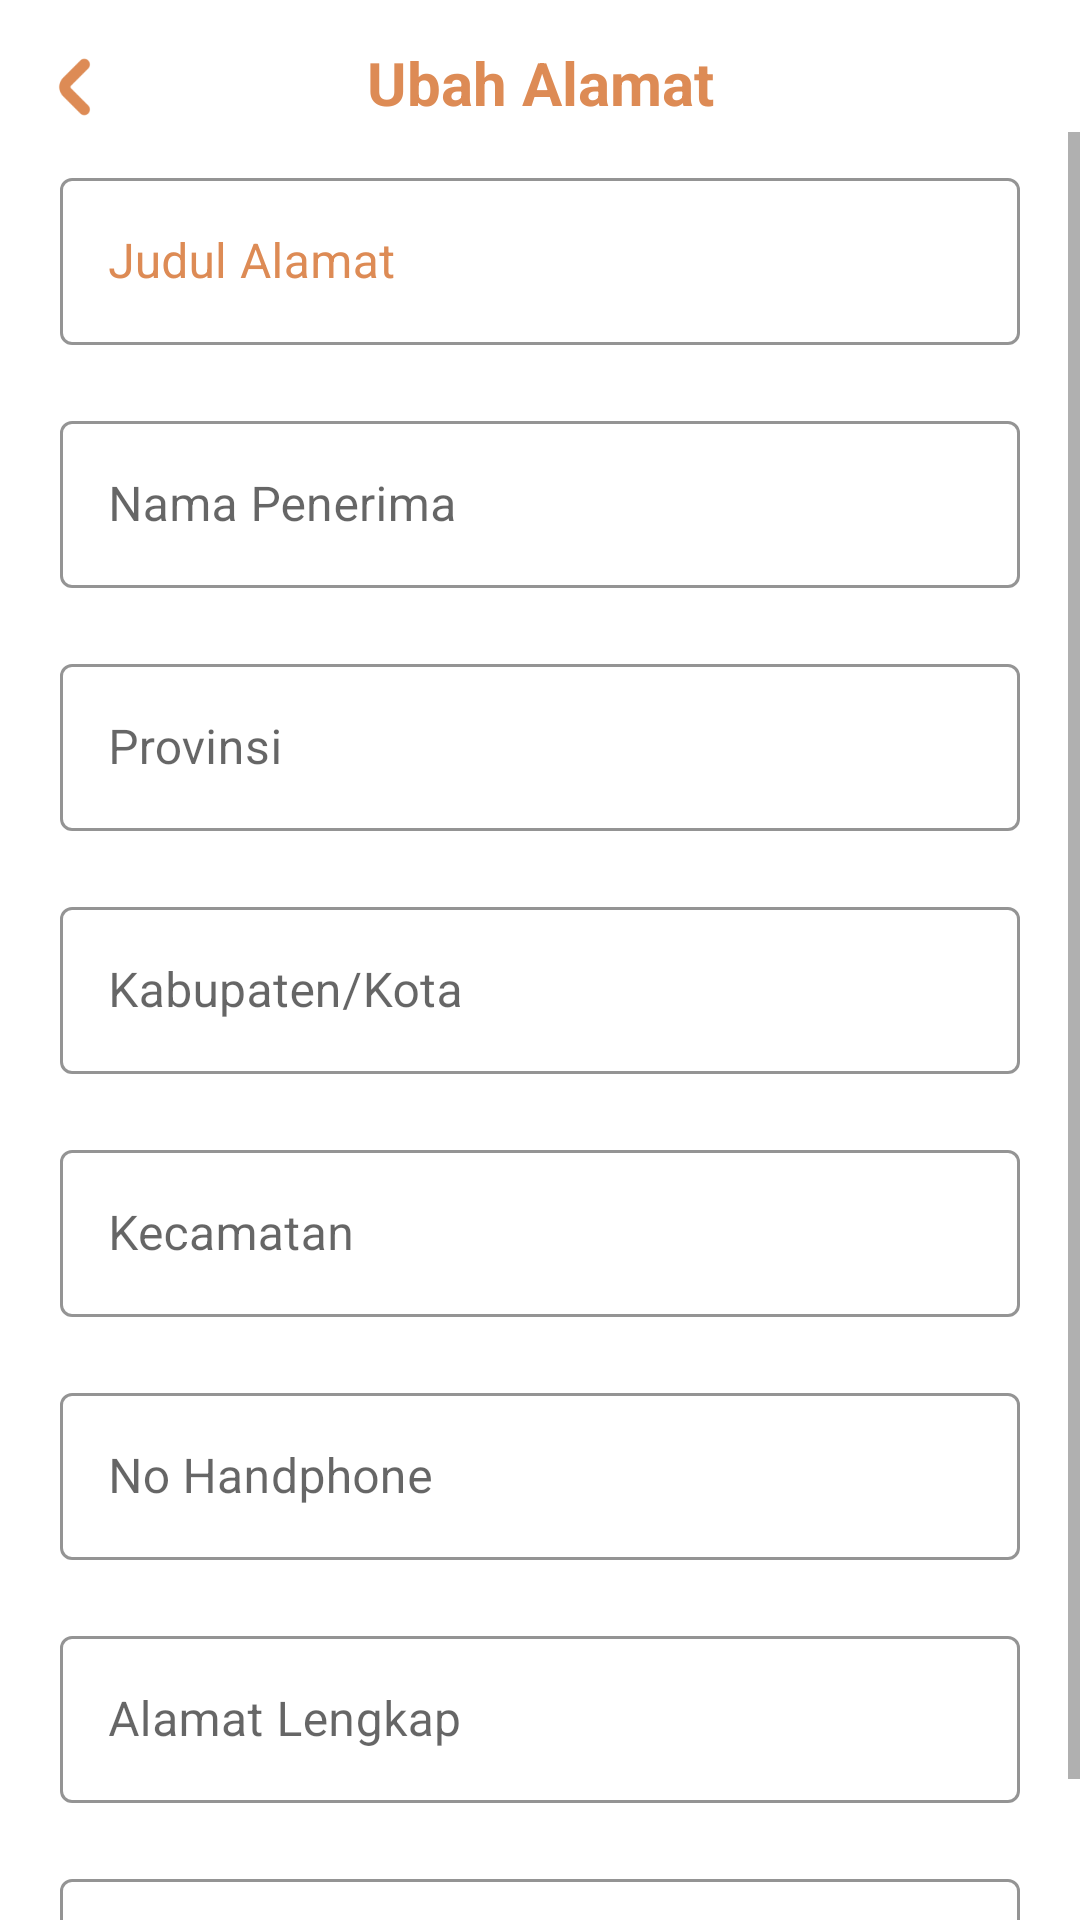

Icons on this 1080 x 1920 Android screen, each with its box as (x1, y1, x2, y2):
provious: (59, 58, 90, 116)
